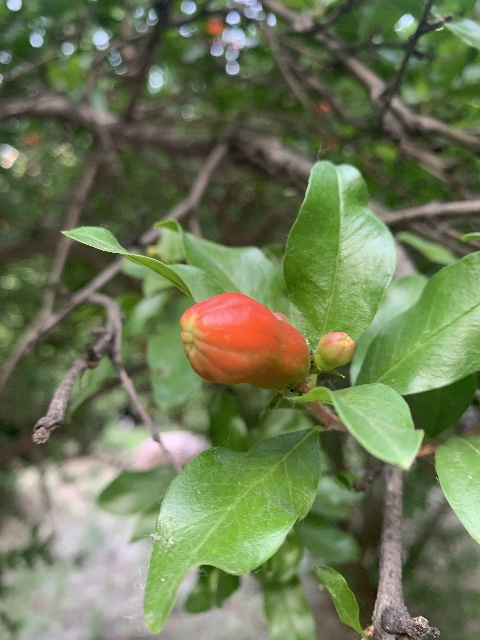bud: (179, 292, 310, 390), (312, 331, 355, 370)
